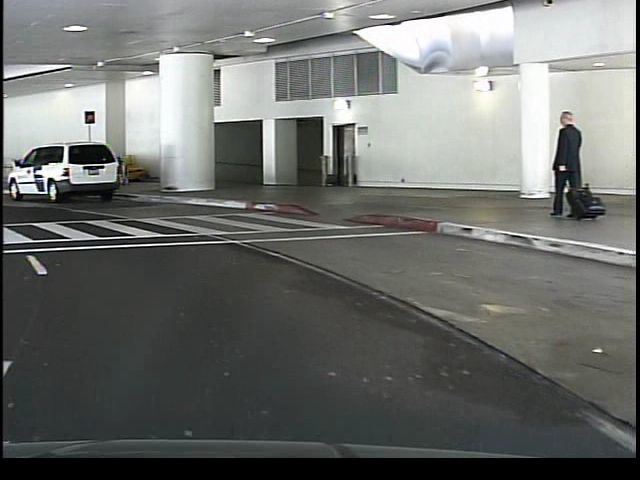person: (546, 103, 583, 223)
